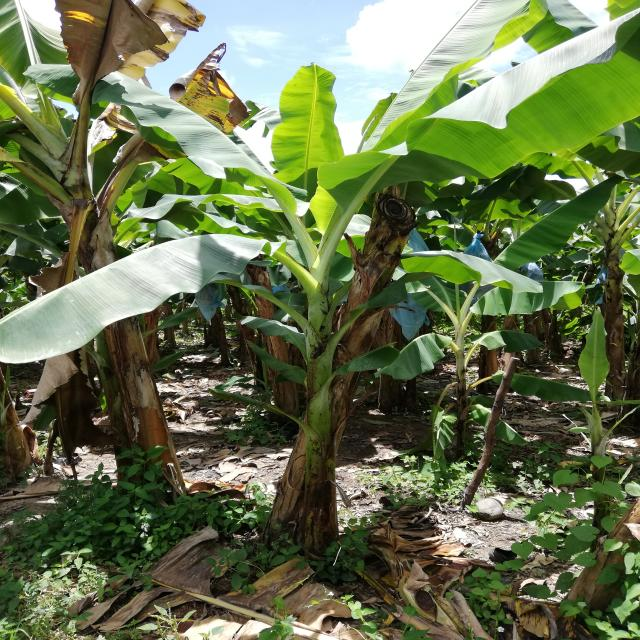Banana-plant: (31, 158, 193, 520), (258, 298, 358, 569)
